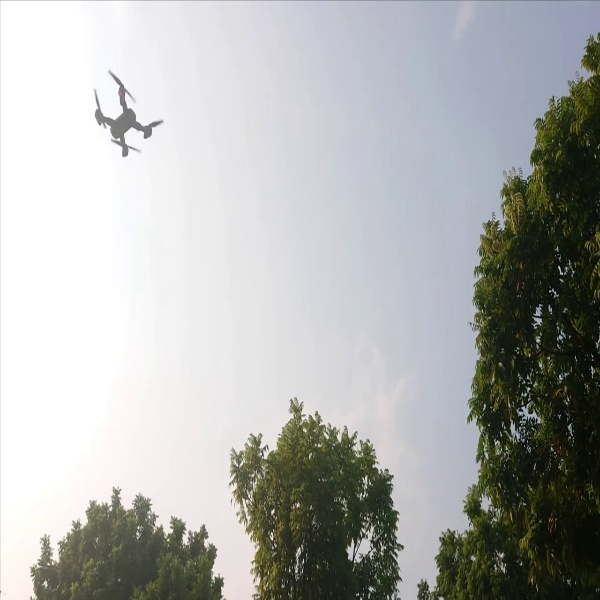drone: (83, 73, 165, 167)
